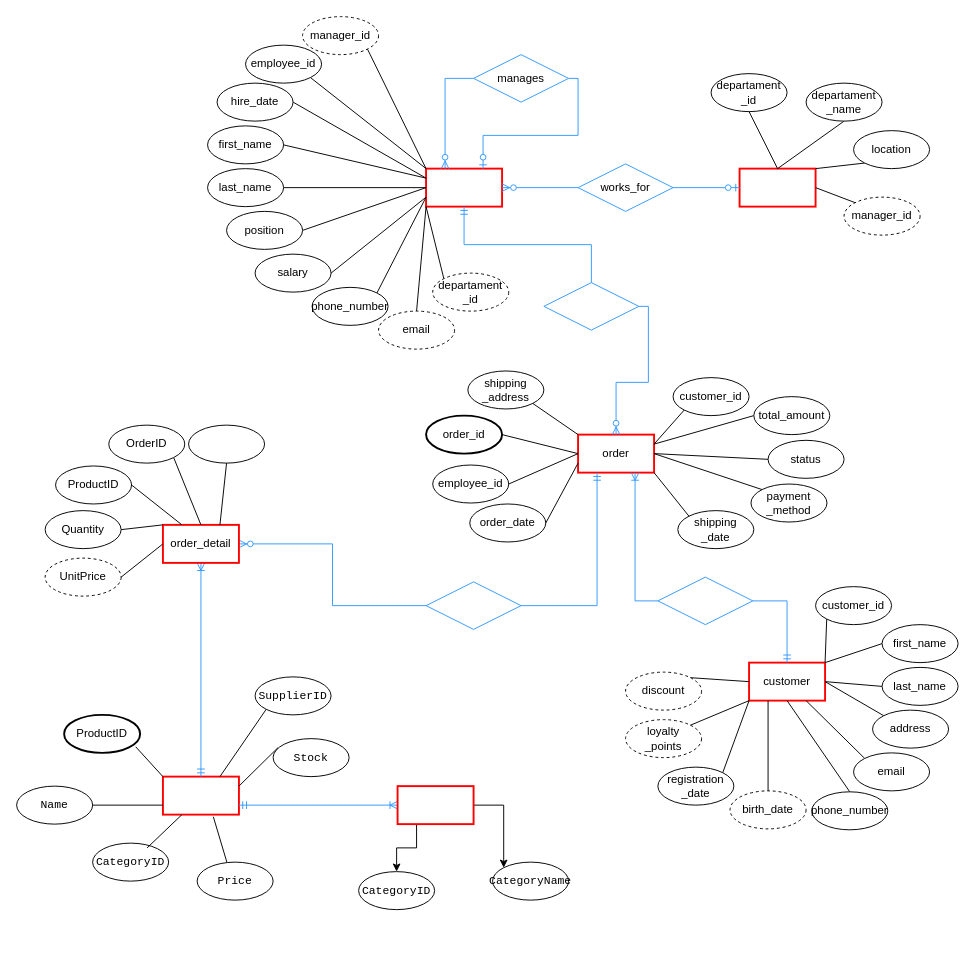
Image size: 975x953. Some labels were removed from this diagram. Here are the shapes that lost their labels. From the top down, the centre of each, then its label:
the point at 464,187: employee
the point at 777,187: departament
the point at 591,306: places
the point at 226,443: OrderDetailID
the point at 473,605: sells
the point at 705,600: buys
the point at 200,795: Product
the point at 435,805: Category
